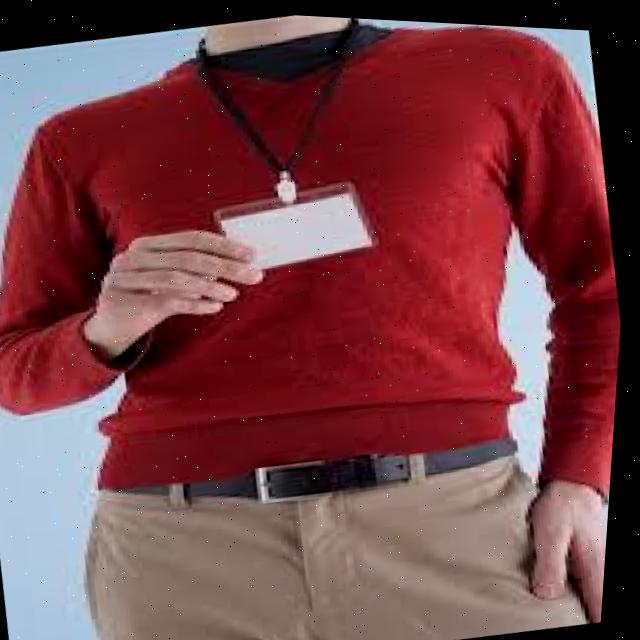id_card: (161, 21, 403, 287)
